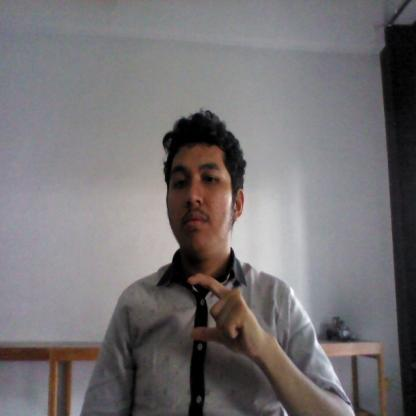C: (182, 270, 267, 364)
